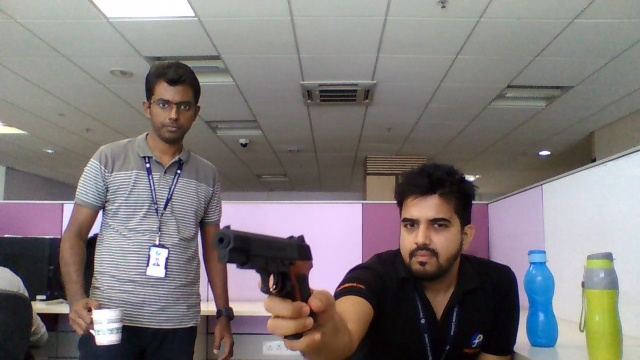gun: (216, 225, 314, 300)
